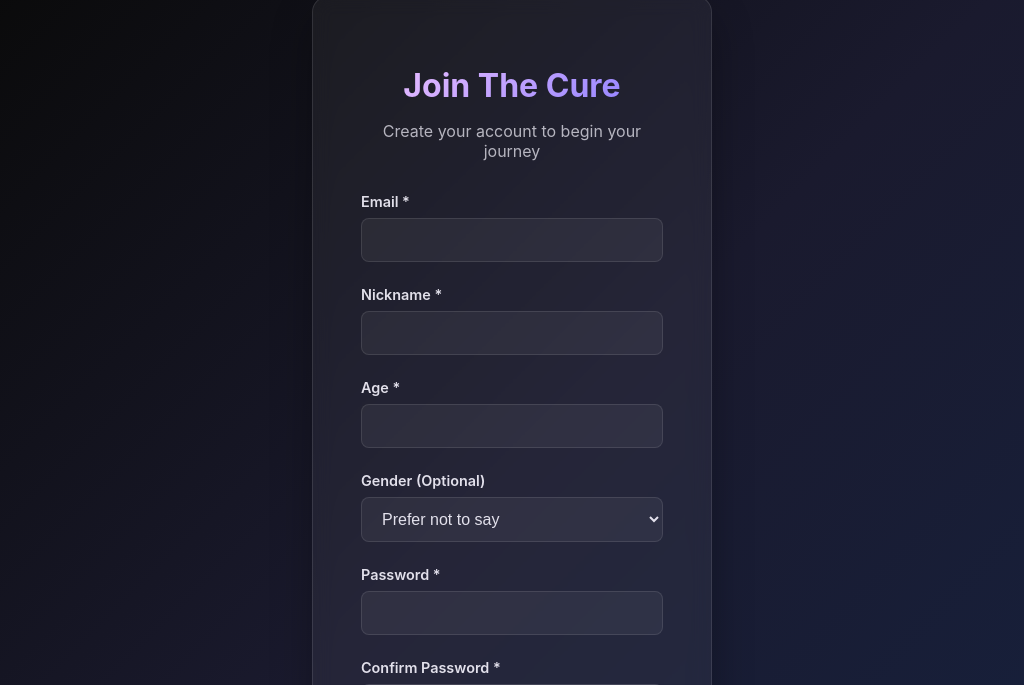
RegisterPage › validates age is not greater than 120
In the number field labelled "Age *": x=512, y=426 [361,404,663,448], type "150"
(page scrolled)
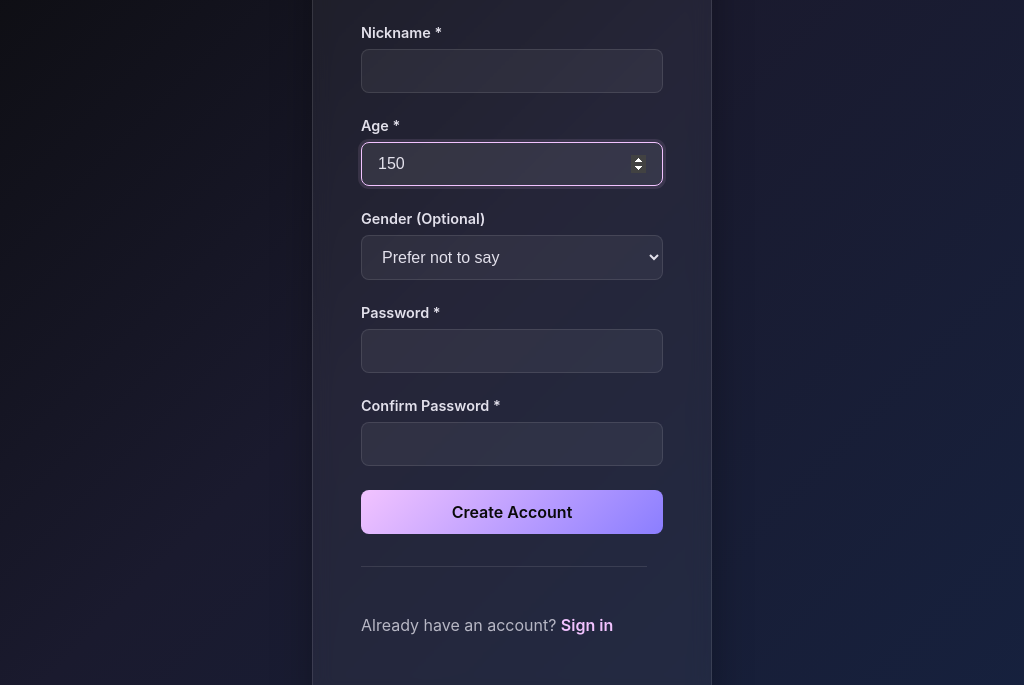
Click the button "Create Account": x=512, y=512 [361,490,663,534]
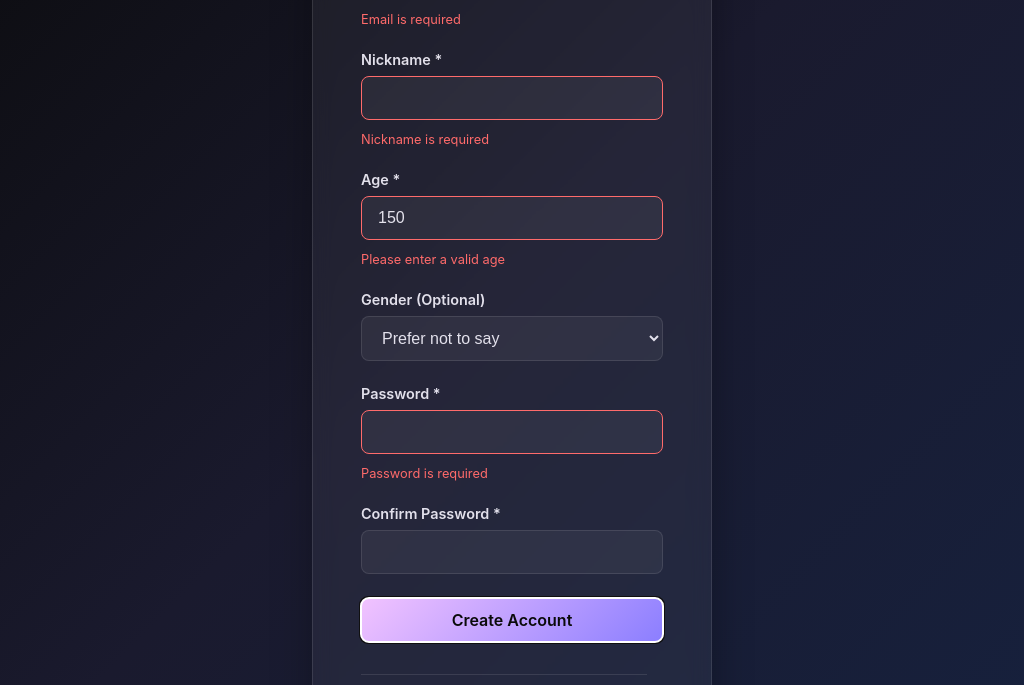
Expected: the text "Please enter a valid age" is shown, [361,252,505,267]
